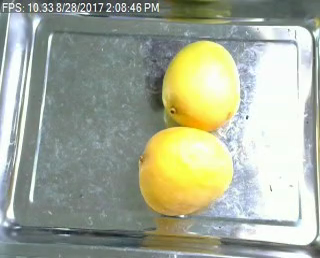Mango: (136, 126, 232, 213), (158, 39, 241, 131)
